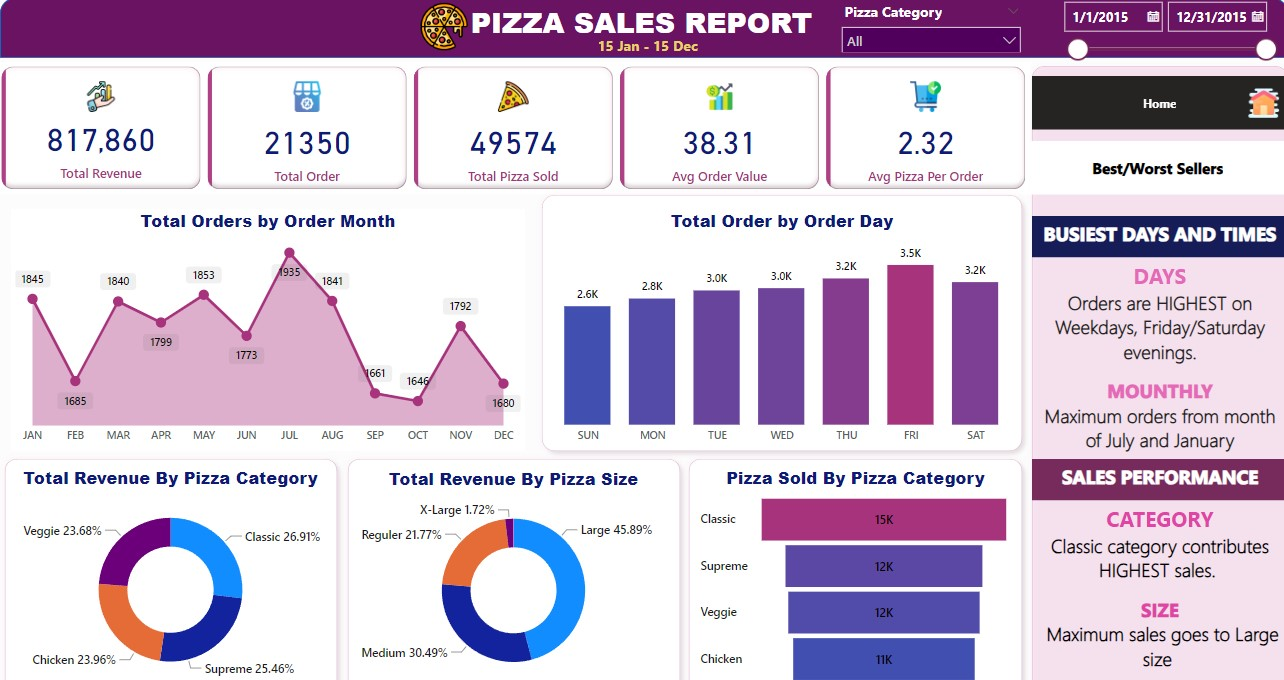

This screenshot's page, from the dashboard's own definition file:
{"tool":"powerbi","page":{"name":"Home","canvas":[1500,820],"ordinal":0},"visuals":[{"type":"cardVisual","fields":{"Data":["pizza_sales.total_revinue","pizza_sales.total_order","pizza_sales.total_pizza_sold","pizza_sales.avg_order_value","pizza_sales.avg_pizza_per_order"]},"box":[17.3,87.7,1178,150.9],"z":0},{"type":"shape","box":[20.5,14.8,1468.1,68.4],"z":1000},{"type":"textbox","box":[523.2,14.3,456.9,58.1],"z":2000},{"type":"textbox","box":[696.4,53.6,137.9,34.2],"z":3000},{"type":"image","box":[494.7,11.4,63.8,71.8],"z":4000},{"type":"shape","box":[629.2,230.2,565.3,310],"z":5000},{"type":"columnChart","fields":{"Y":["pizza_sales.Total Order"],"Category":["pizza_sales.Order Day"]},"box":[629.2,255.3,565.3,275.8],"z":6000},{"type":"shape","box":[1187.2,83.6,310,736.4],"z":7000},{"type":"areaChart","title":"Total Orders by Order Month","fields":{"Category":["pizza_sales.Order Month"],"Y":["pizza_sales.Total Order"]},"box":[33.1,255.3,585.9,275.8],"z":8000},{"type":"shape","box":[17.1,531.2,396.7,288.4],"z":9000},{"type":"shape","box":[408.1,531.2,396.7,288.4],"z":10000},{"type":"shape","box":[796.7,531.2,397.8,288.4],"z":11000},{"type":"donutChart","title":"Total Revenue By Pizza Category","fields":{"Category":["pizza_sales.pizza_category"],"Y":["pizza_sales.Total Revenue"]},"box":[33.1,548.3,363.6,255],"z":12000},{"type":"donutChart","title":"Total Revenue By Pizza Size","fields":{"Category":["pizza_sales.pizza_size"],"Y":["pizza_sales.Total Revenue"]},"box":[424,549.4,363.6,254.2],"z":13000},{"type":"funnel","title":"Pizza Sold By Pizza Category","fields":{"Y":["pizza_sales.Total Pizza Sold"],"Category":["pizza_sales.pizza_category"]},"box":[813.8,548.3,363.6,254.2],"z":14000},{"type":"slicer","fields":{"Values":["pizza_sales.pizza_category"]},"box":[969.9,15.3,224.4,62.2],"z":15000},{"type":"slicer","fields":{"Values":["pizza_sales.order_date"]},"box":[1220.8,9.2,264.2,79.6],"z":16000},{"type":"textbox","box":[1196.3,263.1,291.7,46.9],"z":17000},{"type":"textbox","box":[1196.3,540.5,292,46.9],"z":18000},{"type":"textbox","box":[1197.9,310,289.5,230.2],"z":19000},{"type":"textbox","box":[1197.9,587,289.5,232.5],"z":20000},{"type":"pageNavigator","box":[1194.3,177.5,291.7,61.2],"z":21000},{"type":"pageNavigator","box":[1196.3,104,291.7,61.2],"z":22000},{"type":"image","box":[1438.1,109.1,45,50],"z":23000}]}

Visuals, with their boxes on the page's 1500x820 design canvas (x1, y1, x2, y2). These are canvas units, not pixel positions in the 1284x680 screenshot, which may show the page scaled, cropped or inside an application window:
cardVisual - pizza_sales.total_revinue x pizza_sales.total_order: bbox(17, 88, 1195, 239)
shape: bbox(20, 15, 1489, 83)
textbox: bbox(523, 14, 980, 72)
textbox: bbox(696, 54, 834, 88)
image: bbox(495, 11, 558, 83)
shape: bbox(629, 230, 1194, 540)
columnChart - pizza_sales.Total Order x pizza_sales.Order Day: bbox(629, 255, 1194, 531)
shape: bbox(1187, 84, 1497, 820)
"Total Orders by Order Month" areaChart: bbox(33, 255, 619, 531)
shape: bbox(17, 531, 414, 820)
shape: bbox(408, 531, 805, 820)
shape: bbox(797, 531, 1194, 820)
"Total Revenue By Pizza Category" donutChart: bbox(33, 548, 397, 803)
"Total Revenue By Pizza Size" donutChart: bbox(424, 549, 788, 804)
"Pizza Sold By Pizza Category" funnel: bbox(814, 548, 1177, 802)
slicer - pizza_sales.pizza_category: bbox(970, 15, 1194, 78)
slicer - pizza_sales.order_date: bbox(1221, 9, 1485, 89)
textbox: bbox(1196, 263, 1488, 310)
textbox: bbox(1196, 540, 1488, 587)
textbox: bbox(1198, 310, 1487, 540)
textbox: bbox(1198, 587, 1487, 820)
pageNavigator: bbox(1194, 178, 1486, 239)
pageNavigator: bbox(1196, 104, 1488, 165)
image: bbox(1438, 109, 1483, 159)
